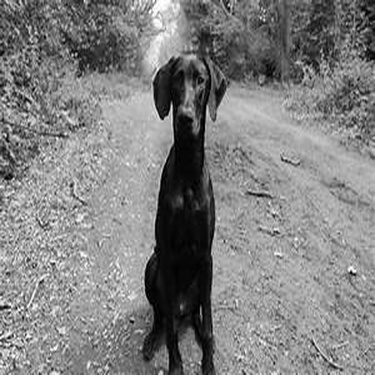dog: (116, 43, 234, 372)
